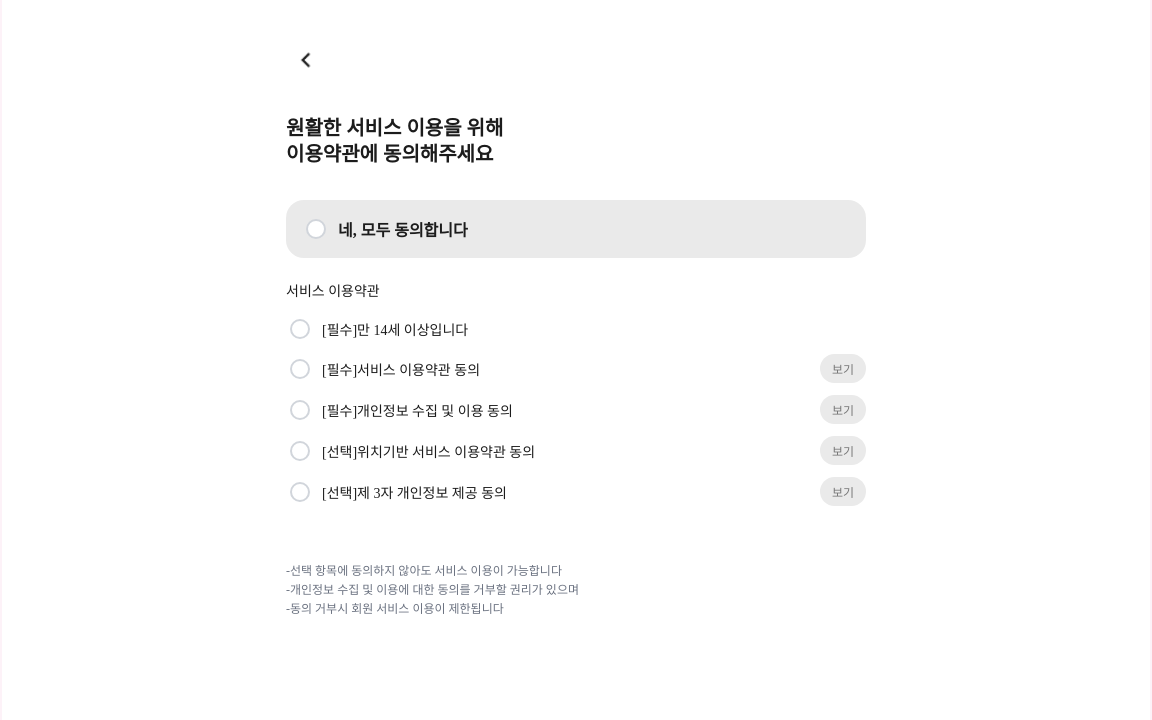
RegisterPage › Step 1 - 약관 동의 › 필수 3개를 개별 체크하면 '모두 동의'도 자동 체크된다
Click the checkbox in the row of "만 14세 이상입니다".
click(300, 329)  # box [290,319,310,339]
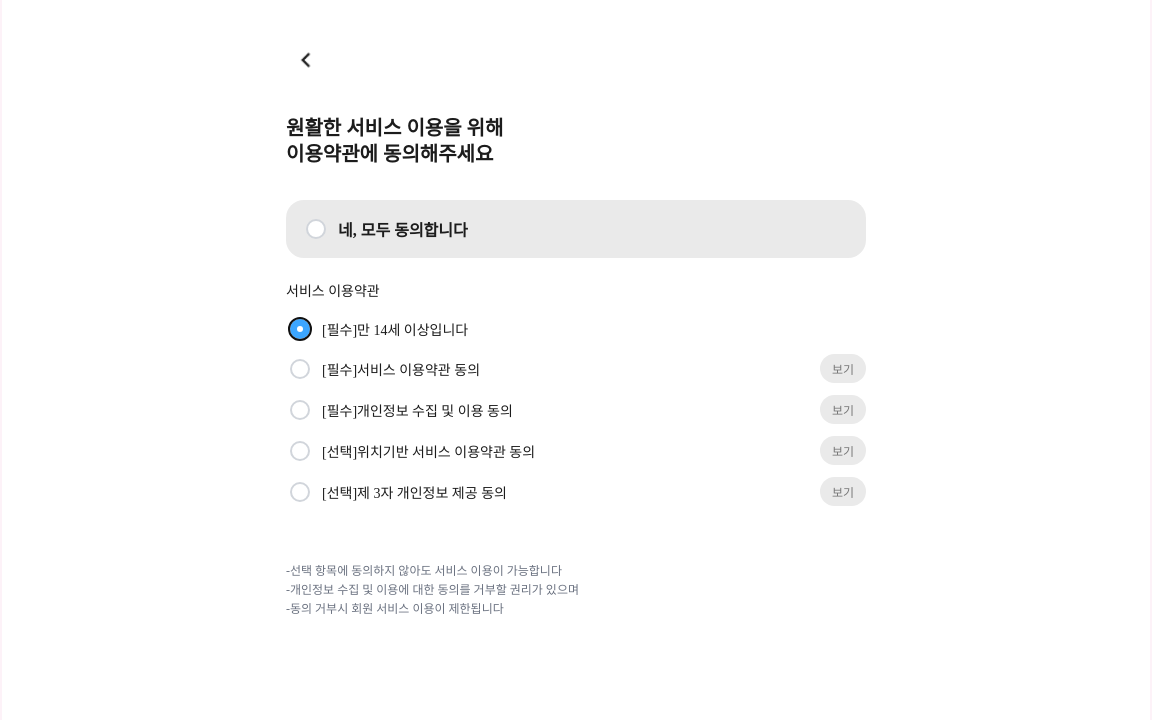
Click the 3rd checkbox.
click(300, 368)  # box [290,358,310,378]
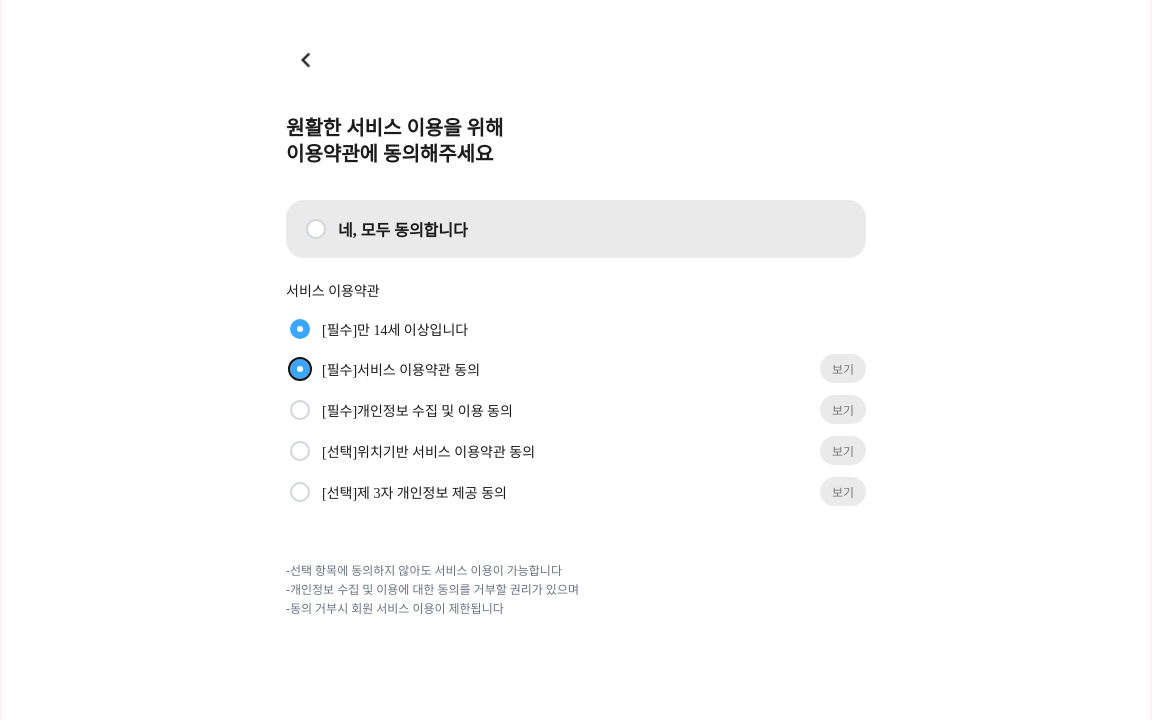
Click the checkbox in the row of "개인정보 수집 및 이용 동의".
click(300, 410)  # box [290,400,310,420]
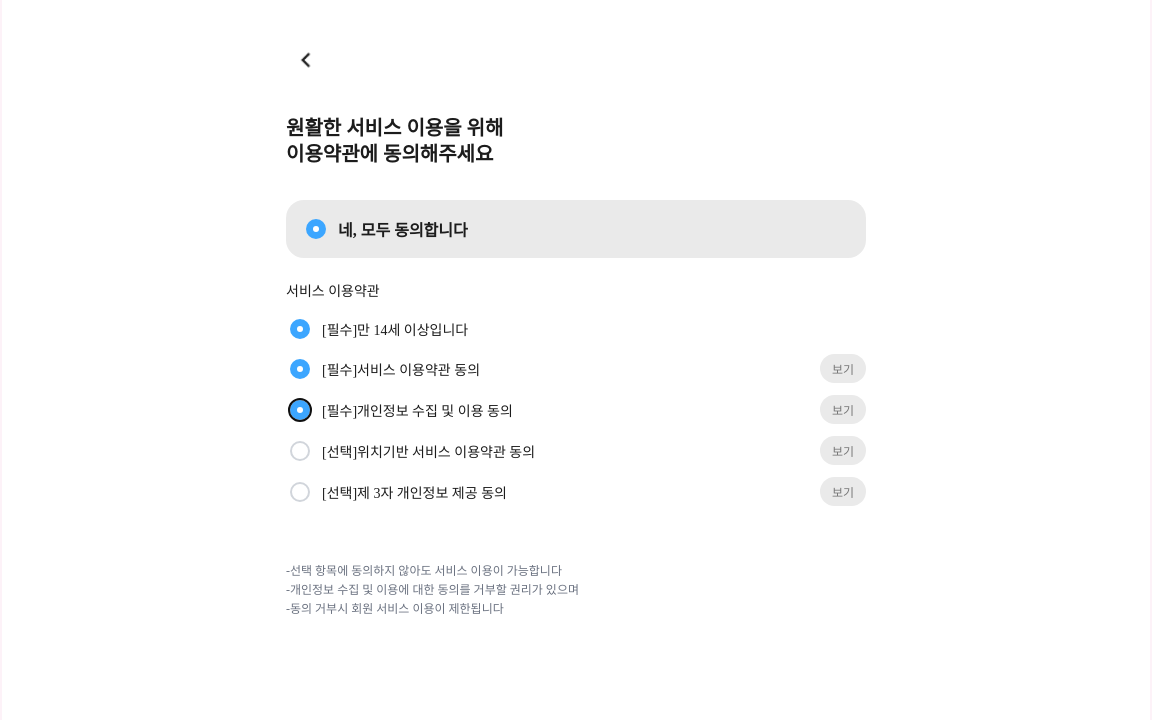
Result: the checkbox next to "네, 모두 동의합니다" is checked at [306,219,326,239]
